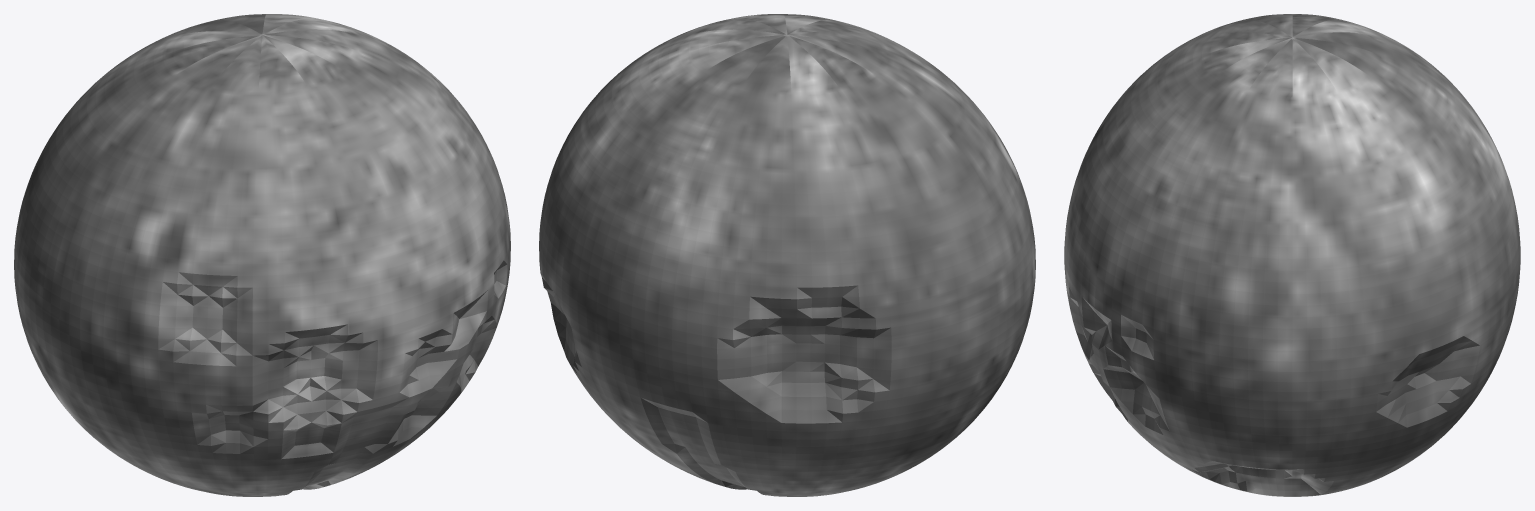
The model's file is puck.obj.
3 renders of one model, left to right at view 1: azimuth 30°, elevation 25°; view 2: azimuth 150°, elevation 25°; view 3: azimuth 270°, elevation 25°, orthographic.
Parts seen in each view (by area): view 1: mesh01; view 2: mesh01; view 3: mesh01.
Part boxes in pixels (x1,y1,x2,y2): mesh01: (14,14,510,496); mesh01: (539,14,1035,496); mesh01: (1064,14,1520,496).
Bounding box in the file's own units: 41.81 × 39.87 × 38.02.
